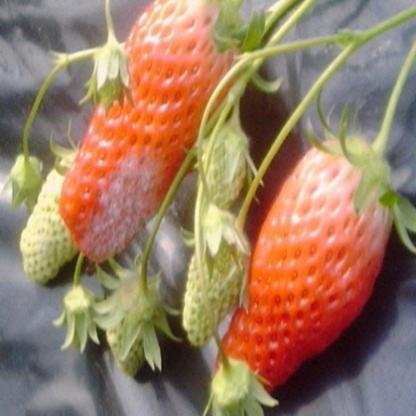Strawberry_Powdery_Mildew_Fruit: (73, 142, 172, 263)
